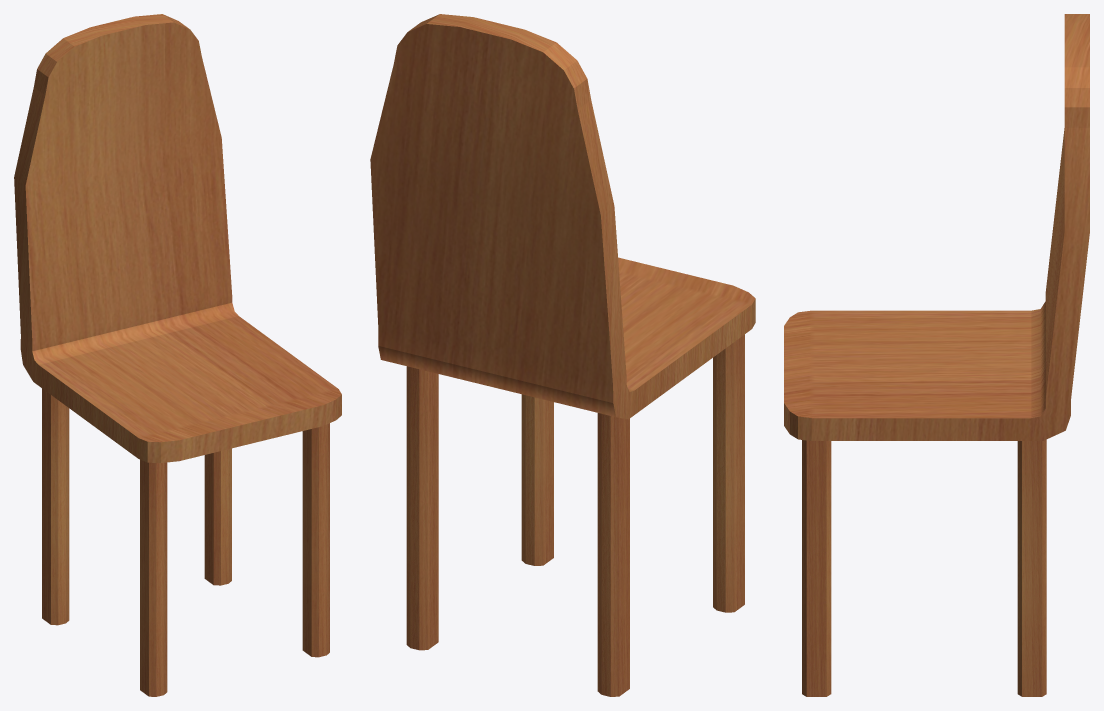
File: Prop_Chair.FBX
The picture shows the model from 3 angles, left to right: view 1: azimuth 30°, elevation 25°; view 2: azimuth 150°, elevation 25°; view 3: azimuth 270°, elevation 25°; orthographic projection. The views are drawn at different scales.
Visible parts, largest first — view 1: Object002; view 2: Object002; view 3: Object002.
Boxes of the visible parts, x1,y1,x2,y2 form: Object002: (14,14,341,696); Object002: (370,14,755,696); Object002: (784,14,1089,696).
Size of the model in its own units: 62.51 by 166 by 75.15.
